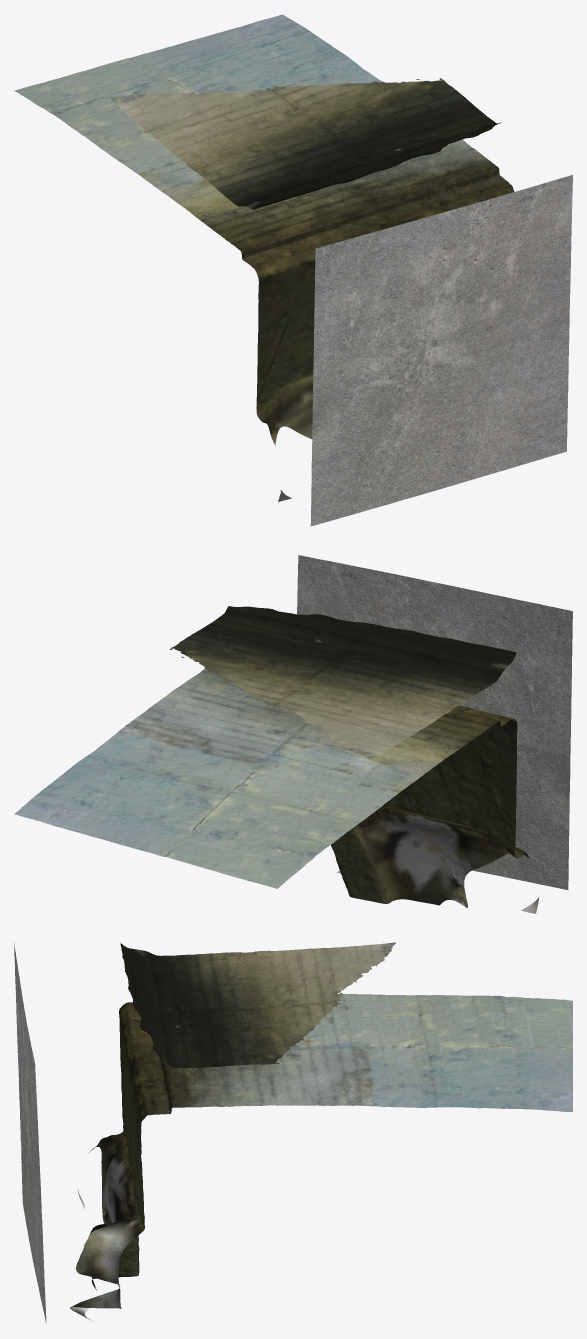
File: Tile_+006_+008.obj
The picture shows the model from 3 angles, top to bottom: view 1: azimuth 30°, elevation 25°; view 2: azimuth 150°, elevation 25°; view 3: azimuth 270°, elevation 25°; orthographic projection. The views are drawn at different scales.
Bounding box in the file's own units: 3.03 × 3.03 × 5.89.
Materials: 1 (1 with a texture image).
